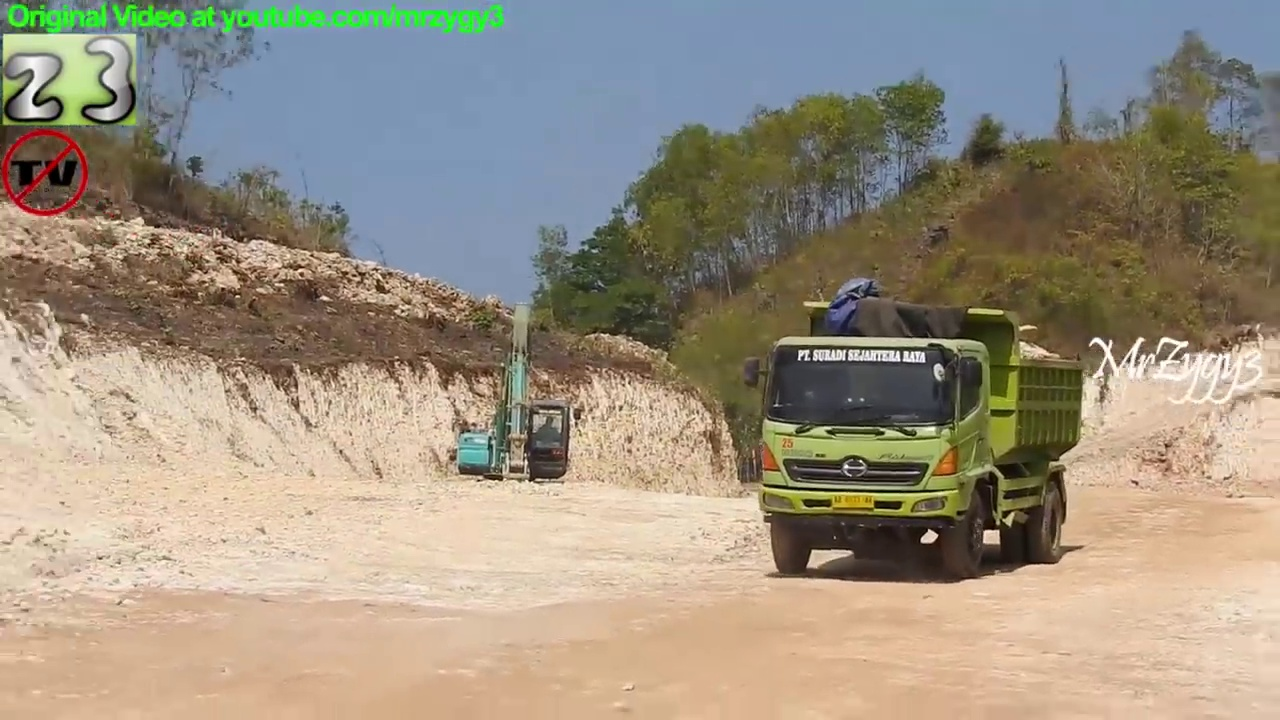excavator: (450, 299, 589, 510)
truck: (738, 293, 1092, 585)
